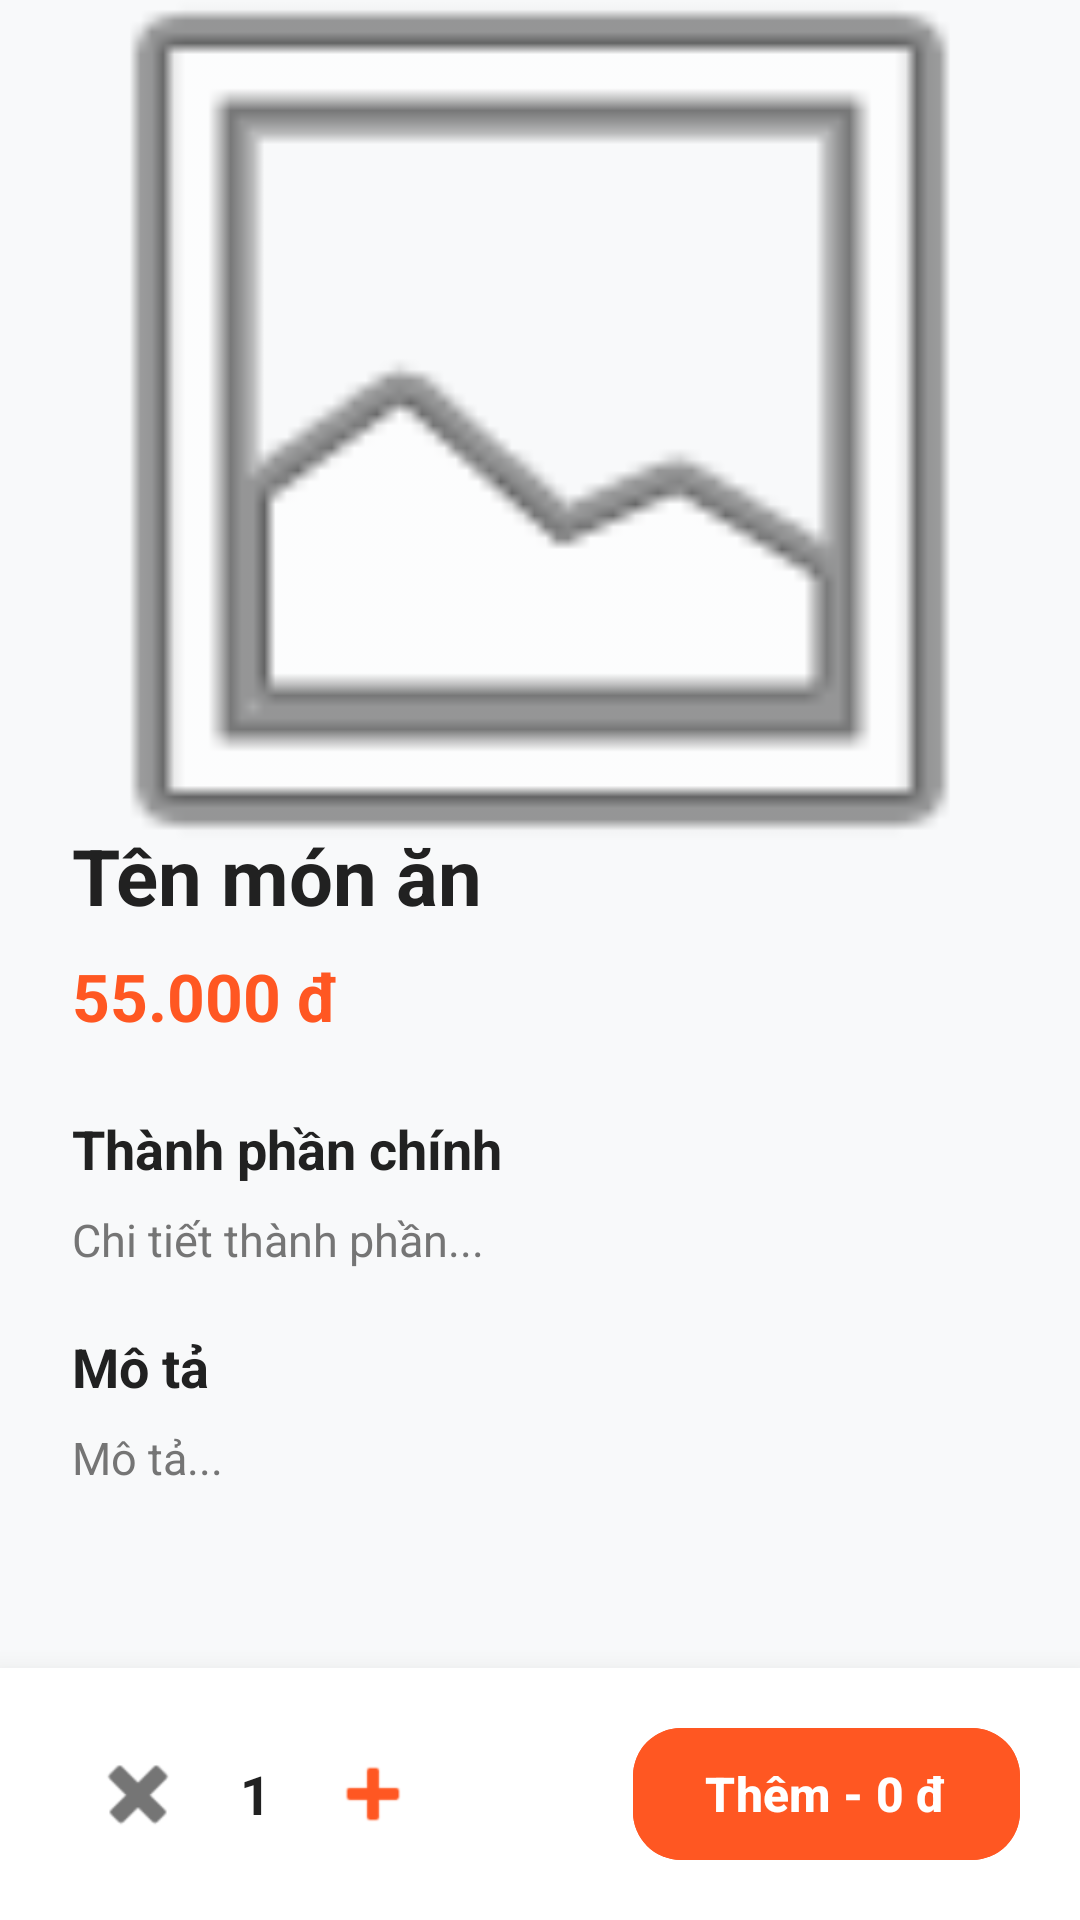

Named icons in this screenshot (1080px x 1920px) and their centers, (x,y):
add: (373,1794)
delete: (138,1794)
